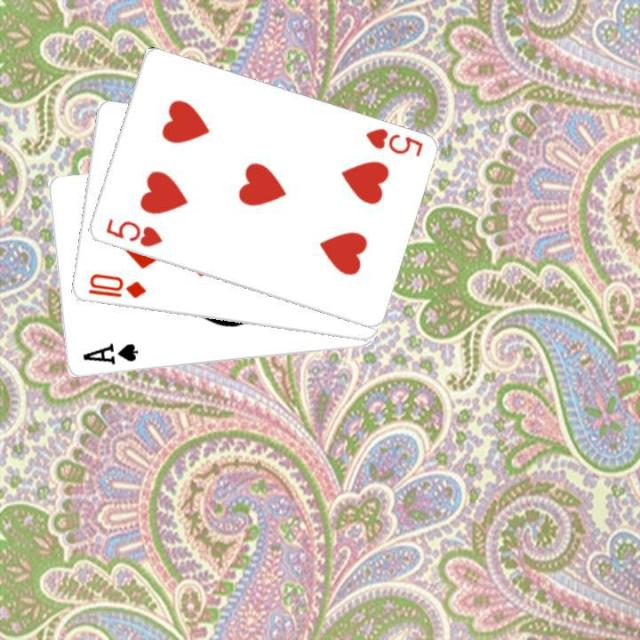10D: (84, 270, 148, 300)
5H: (102, 214, 164, 250), (361, 125, 424, 159)
AS: (78, 340, 140, 367)
